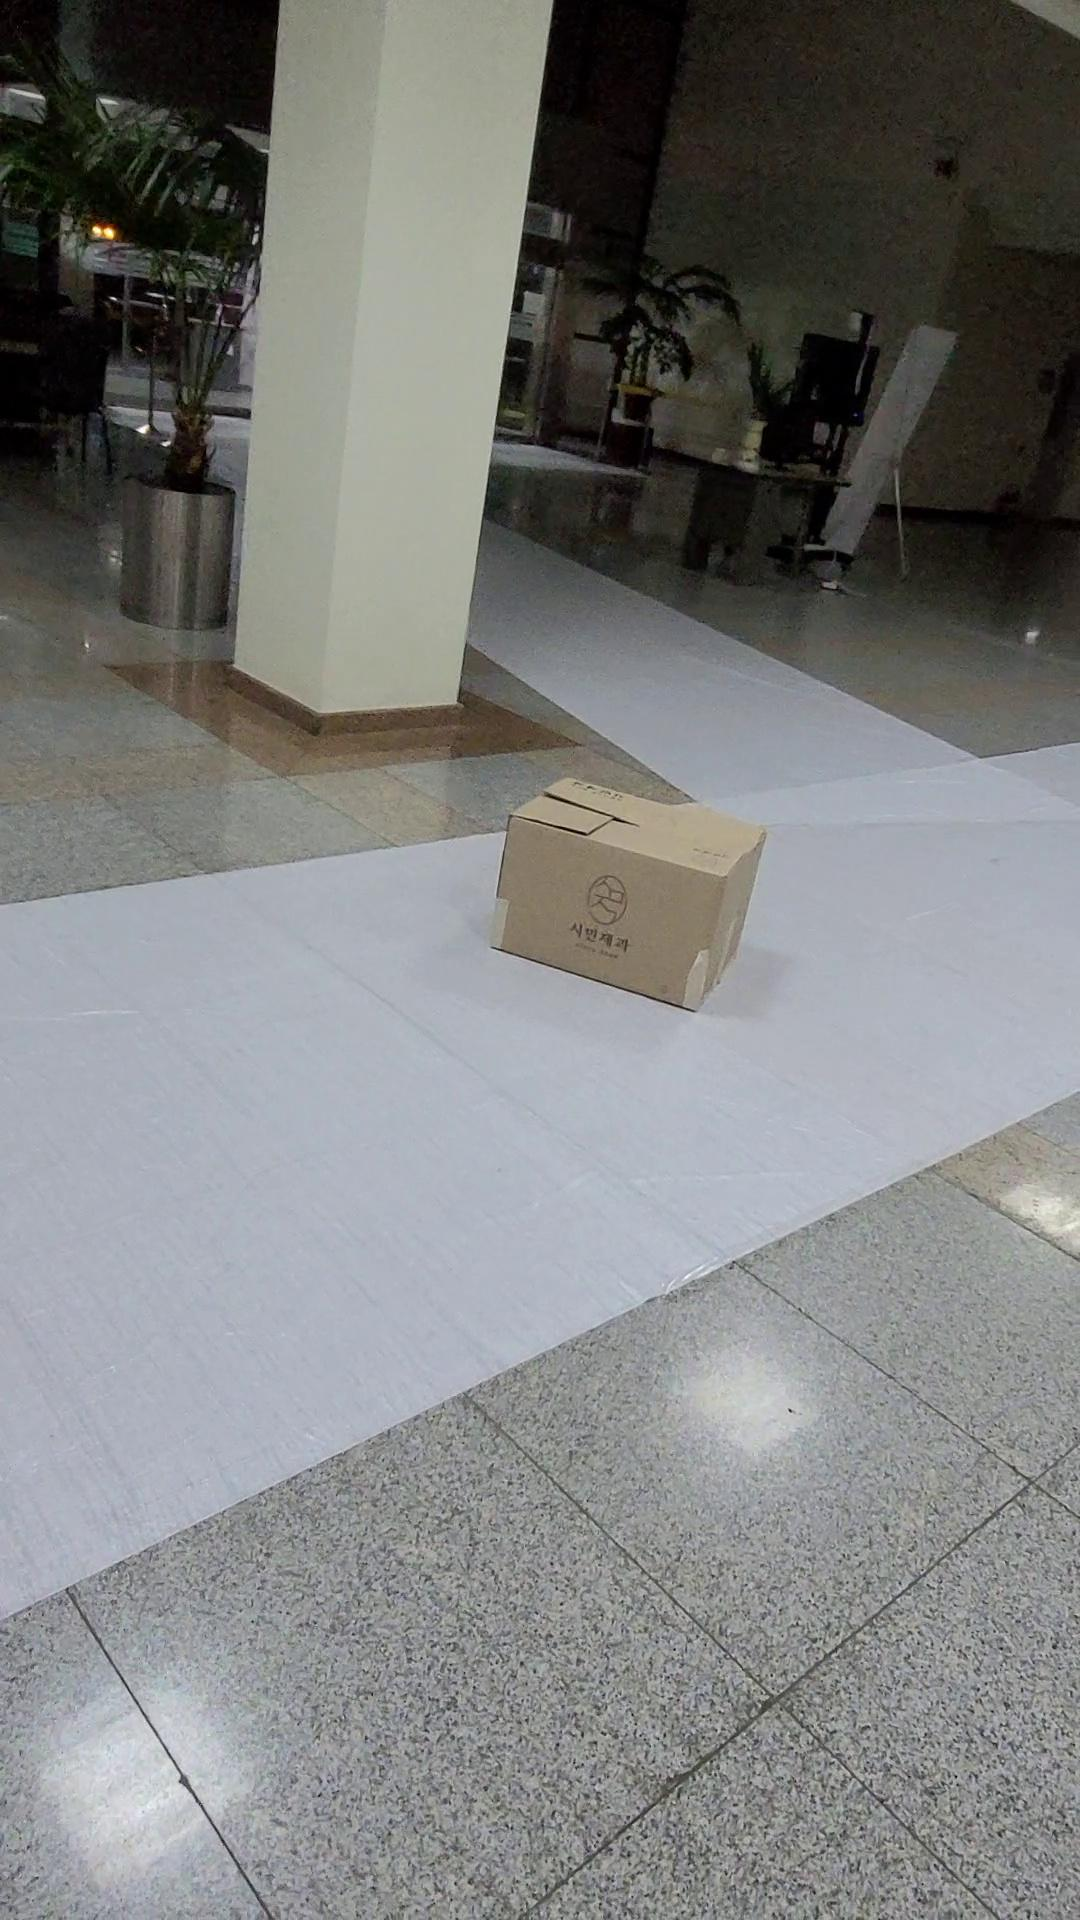Box: (481, 764, 770, 1021)
